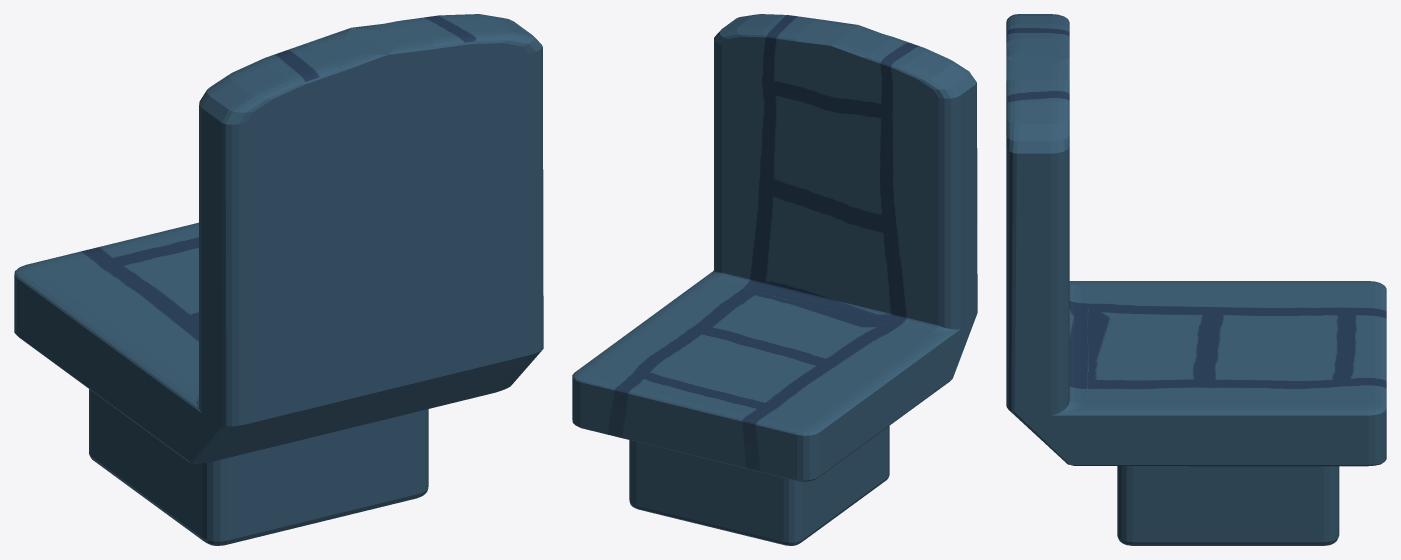
The model's file is Weapon-chair.glb.
The picture shows the model from 3 angles, left to right: view 1: azimuth 30°, elevation 25°; view 2: azimuth 150°, elevation 25°; view 3: azimuth 270°, elevation 25°; orthographic projection. The views are drawn at different scales.
Parts seen in each view (by area): view 1: Cube.002; view 2: Cube.002; view 3: Cube.002.
Boxes of the visible parts, left/top/right/bottom form: Cube.002: left=14, top=14, right=543, bottom=545; Cube.002: left=572, top=14, right=977, bottom=545; Cube.002: left=1006, top=14, right=1386, bottom=545.
Size of the model in its own units: 2 by 3.1 by 2.4.
Materials: 1 (1 with a texture image).
